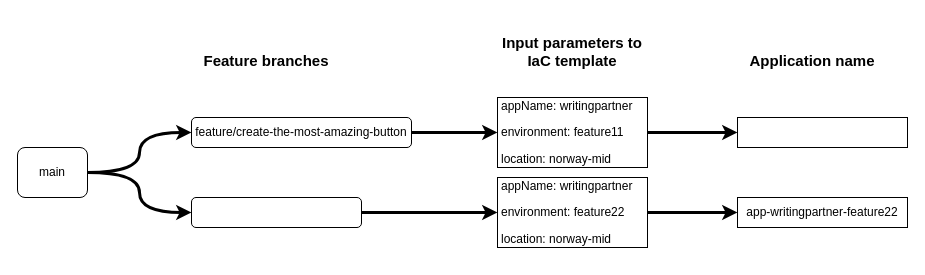
This 925x275 diagram has some shape labels left out. Here are the shapes that lost their labels. From the top down, the centre of each, then its label:
the point at 822,132: app-writingpartner-feature11
the point at 276,212: feature/use-gpt-for-everything
